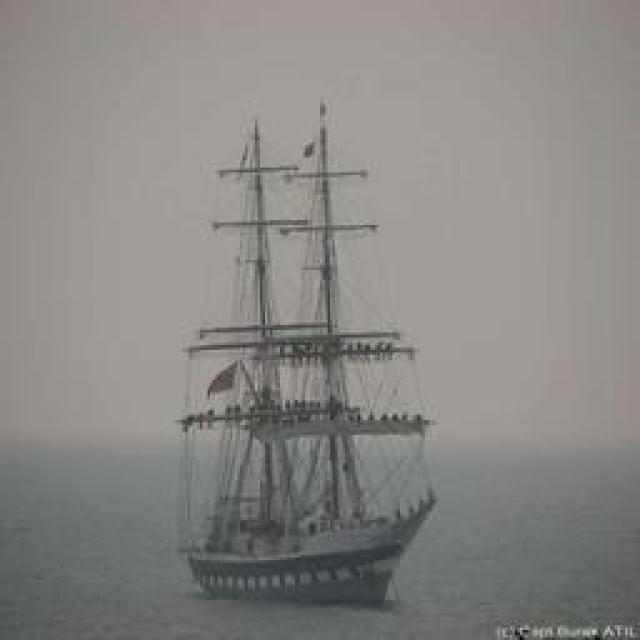Ship: (180, 78, 435, 613)
